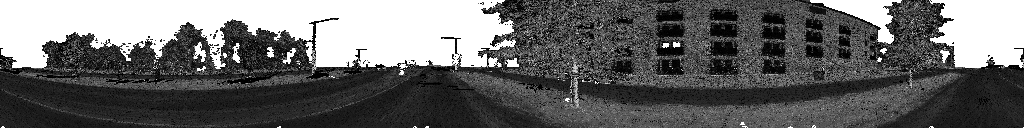light_pole: (304, 19, 338, 76), (441, 38, 461, 72), (352, 50, 366, 72), (247, 37, 253, 58), (352, 40, 356, 65)
traffic_pole: (397, 64, 407, 76), (363, 61, 369, 70)
